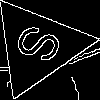S: (13, 21, 73, 71)
